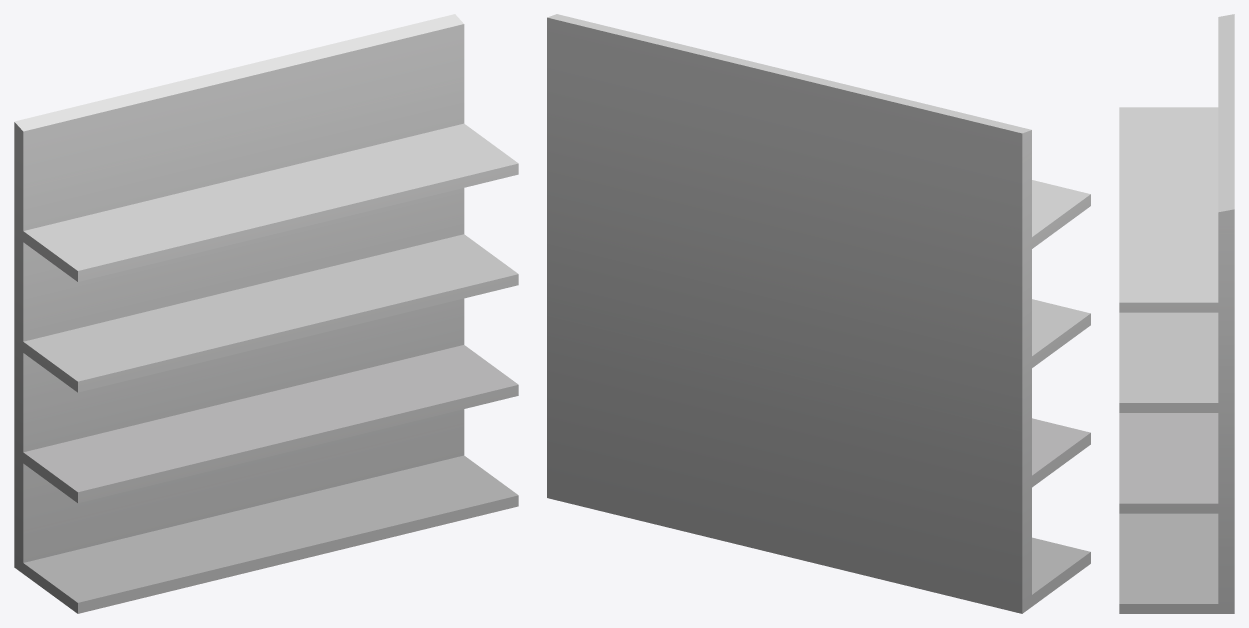
File: case_long_single.fbx
The picture shows the model from 3 angles, left to right: view 1: azimuth 30°, elevation 25°; view 2: azimuth 150°, elevation 25°; view 3: azimuth 270°, elevation 25°; orthographic projection. The views are drawn at different scales.
Parts seen in each view (by area): view 1: case_long_single; view 2: case_long_single; view 3: case_long_single.
Boxes of the visible parts, x1,y1,x2,y2 form: case_long_single: [14, 14, 518, 613]; case_long_single: [547, 14, 1090, 613]; case_long_single: [1119, 14, 1234, 613].
Size of the model in its own units: 1260 by 1218 by 315.
